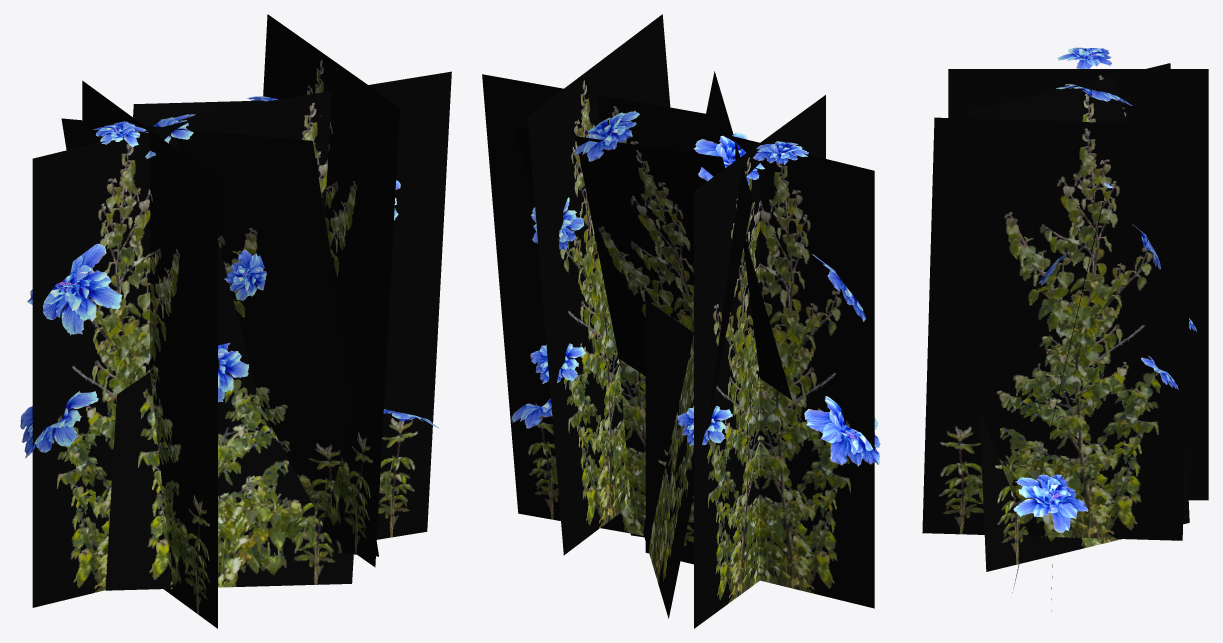
The model's file is FLOWER 2.fbx.
3 views of the same model, side by side, from view 1: azimuth 30°, elevation 25°; view 2: azimuth 150°, elevation 25°; view 3: azimuth 270°, elevation 25° (orthographic). The views are drawn at different scales.
Parts seen in each view (by area): view 1: PLANT, ORRANGE FLOWER, BLUE FLOWER; view 2: PLANT, ORRANGE FLOWER, BLUE FLOWER; view 3: PLANT, ORRANGE FLOWER, BLUE FLOWER.
Part boxes in pixels (left/top/right/bottom): PLANT: left=32, top=14, right=451, bottom=628; ORRANGE FLOWER: left=20, top=96, right=439, bottom=458; BLUE FLOWER: left=93, top=121, right=400, bottom=300; PLANT: left=482, top=14, right=874, bottom=628; ORRANGE FLOWER: left=511, top=110, right=880, bottom=466; BLUE FLOWER: left=530, top=141, right=808, bottom=446; PLANT: left=922, top=63, right=1208, bottom=610; ORRANGE FLOWER: left=1013, top=84, right=1132, bottom=532; BLUE FLOWER: left=1038, top=47, right=1196, bottom=389.
Bounding box in the file's own units: 90.74 × 103 × 54.95.
